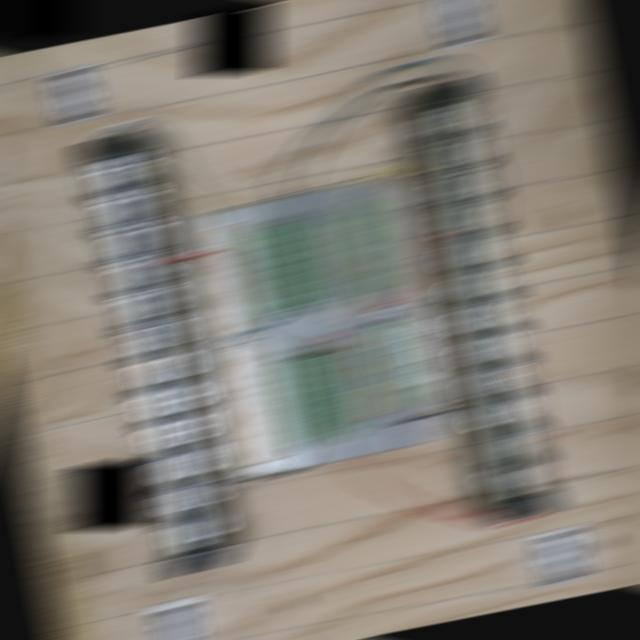Flathead_Block: (408, 78, 563, 522)
Phillips_Block: (75, 130, 233, 577)
Terminal_1: (372, 319, 419, 412), (348, 202, 395, 294)
Terminal_2: (319, 348, 366, 437), (294, 355, 341, 443), (293, 217, 340, 303), (240, 229, 286, 316), (267, 223, 313, 310)
